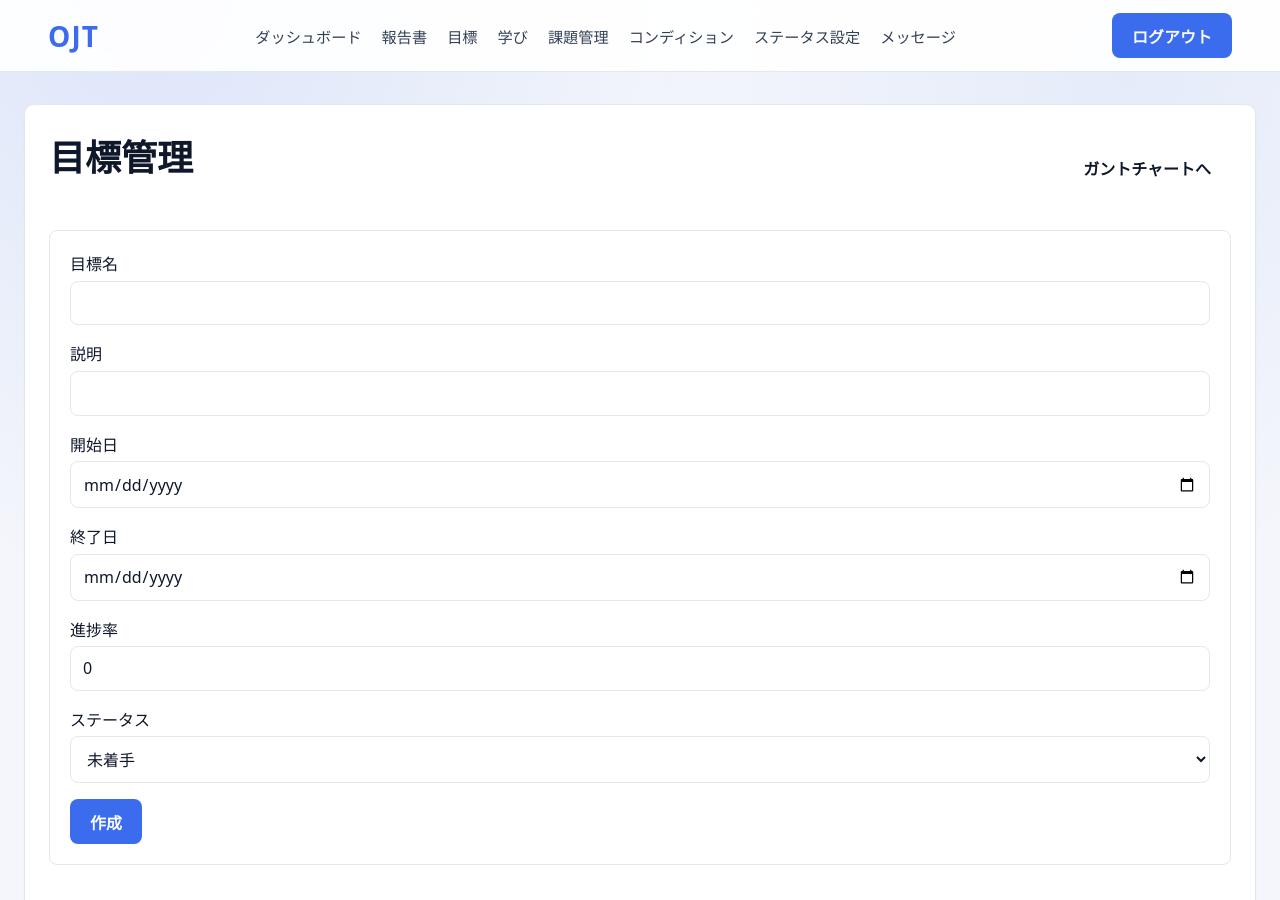
Scenario: 目標 UI › U-G29 管理画面での目標作成 UI（トレーナー） › トレーナーが目標を作成すると成功フィードバックが出る
Type "新規目標" into the field labelled "目標名". click: (640, 303)
box: [70,281,1210,325]
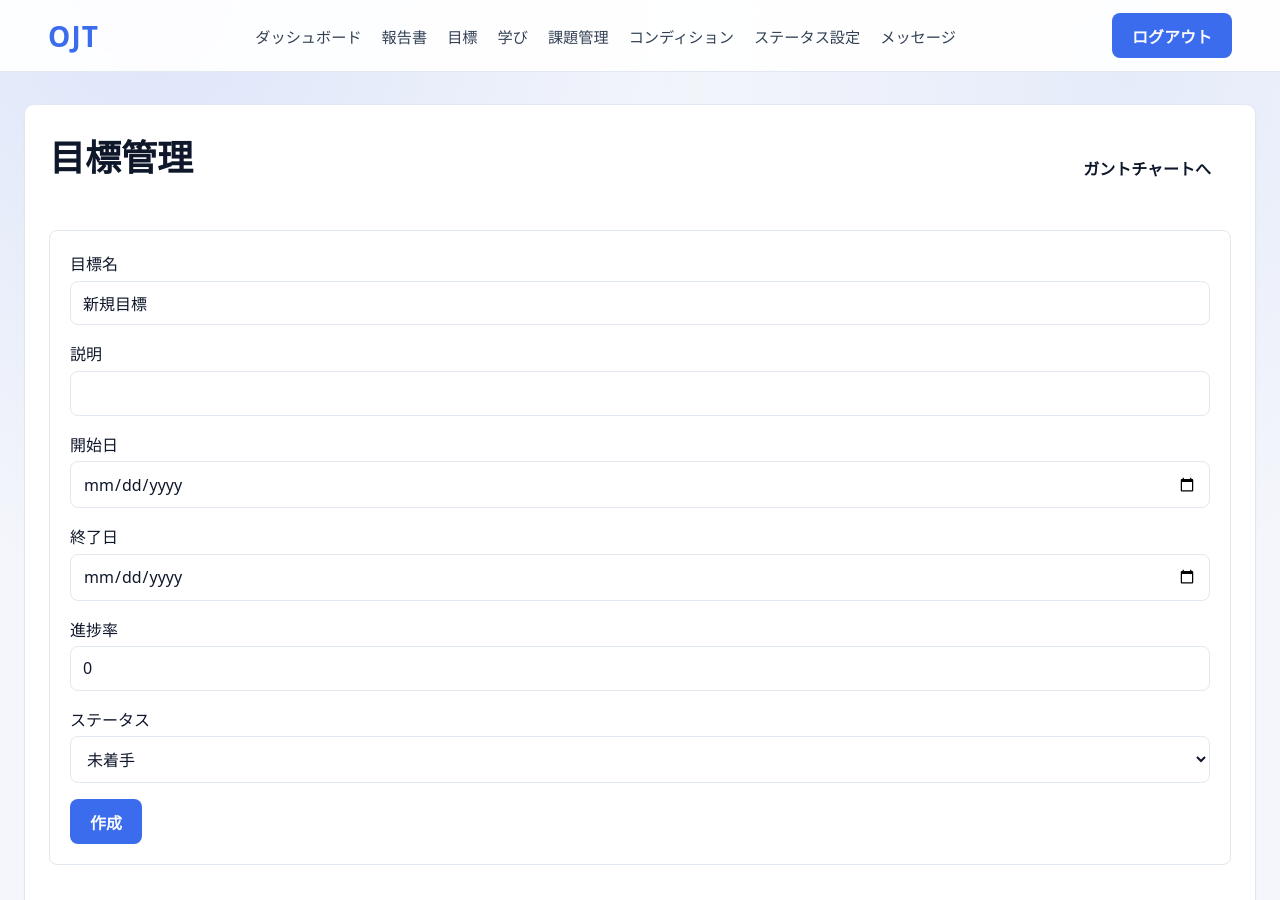
Type "2026-08-01" into the date field labelled "開始日". click: (640, 485)
box: [70,461,1210,508]
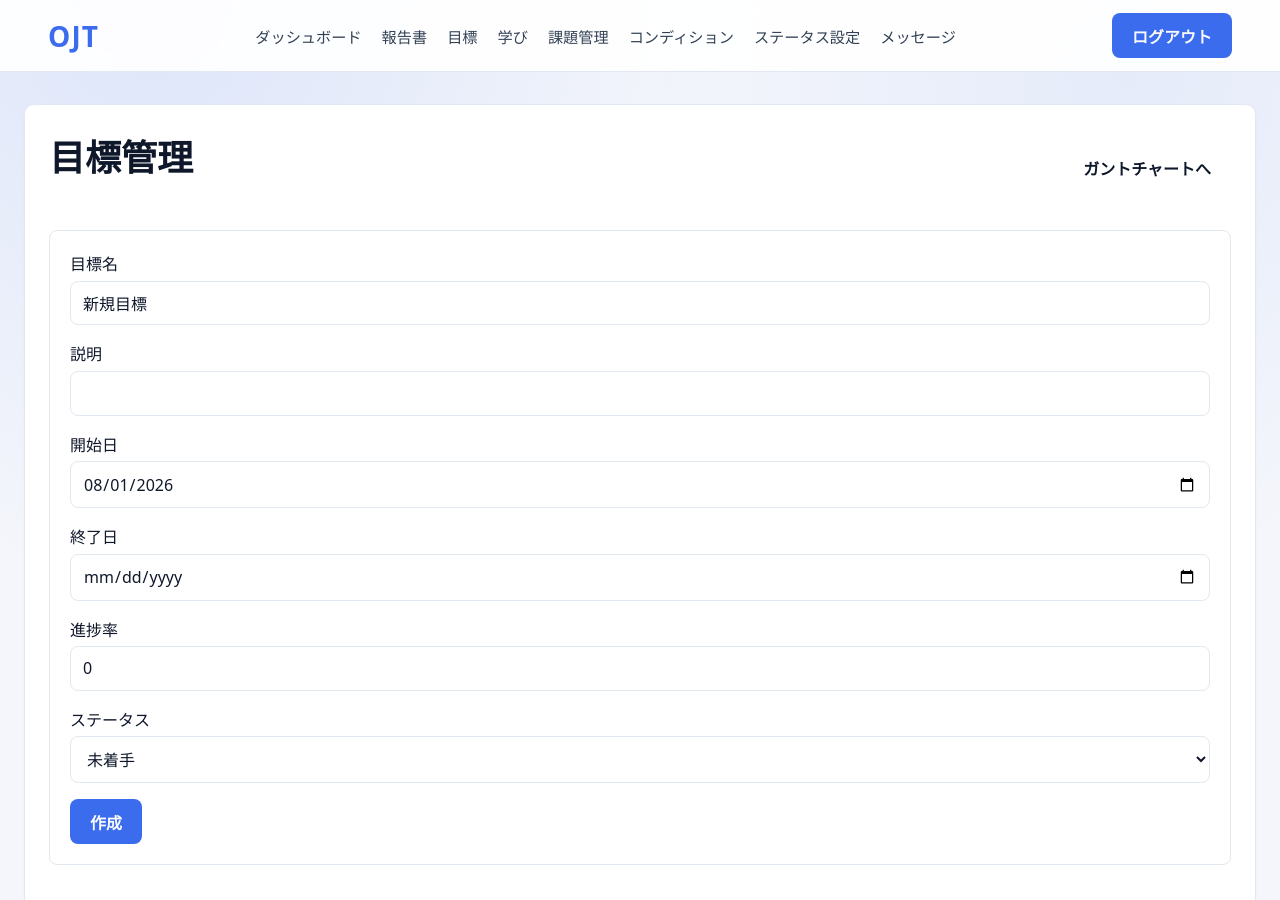
Type "2026-08-10" into the date field labelled "終了日". click: (640, 577)
box: [70,554,1210,600]
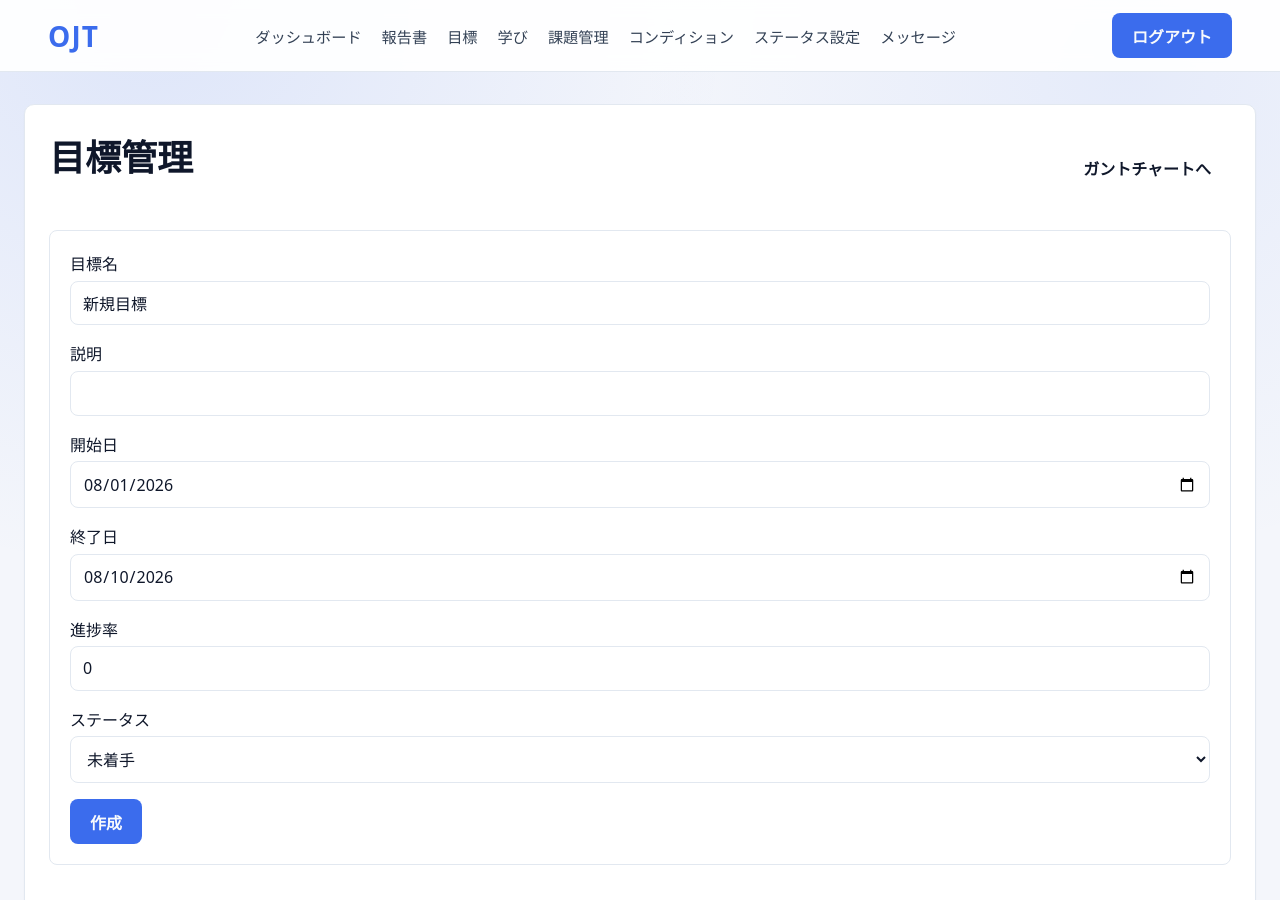
Submit the form named "目標作成"
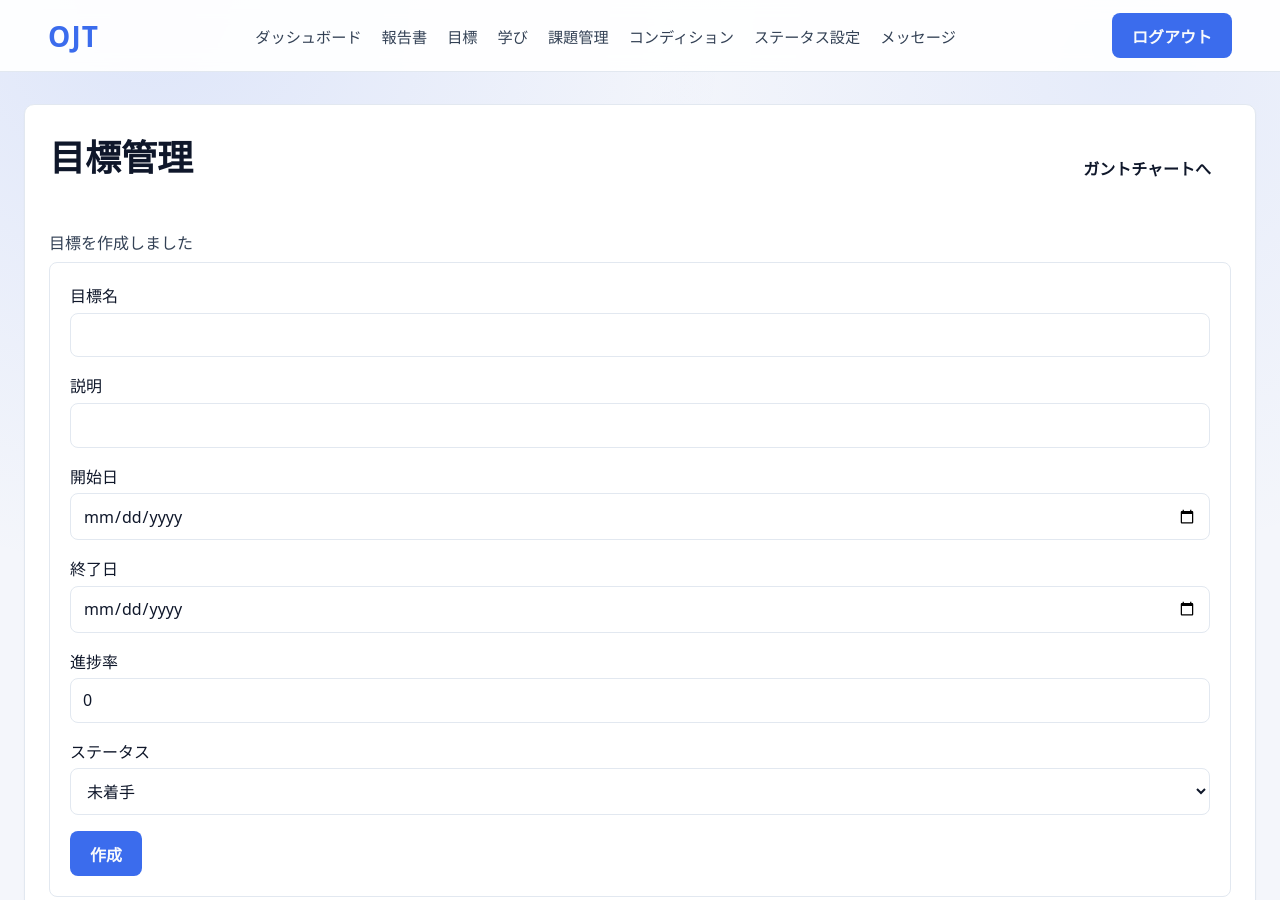
Expected: the message "目標を作成しました" is shown, [49,232,193,254]
